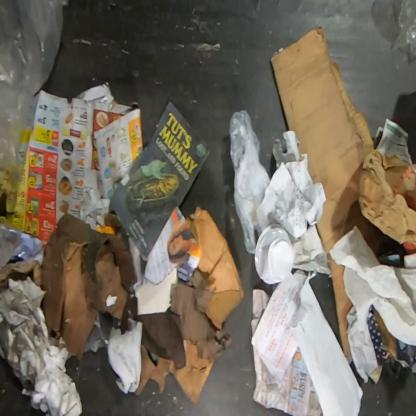cardboard: (270, 24, 384, 357), (33, 212, 139, 361), (120, 267, 233, 370), (186, 205, 245, 330), (133, 340, 215, 405)
rigid_plastic: (254, 224, 296, 286)
soft_plastic: (0, 0, 69, 175), (228, 109, 271, 255)
